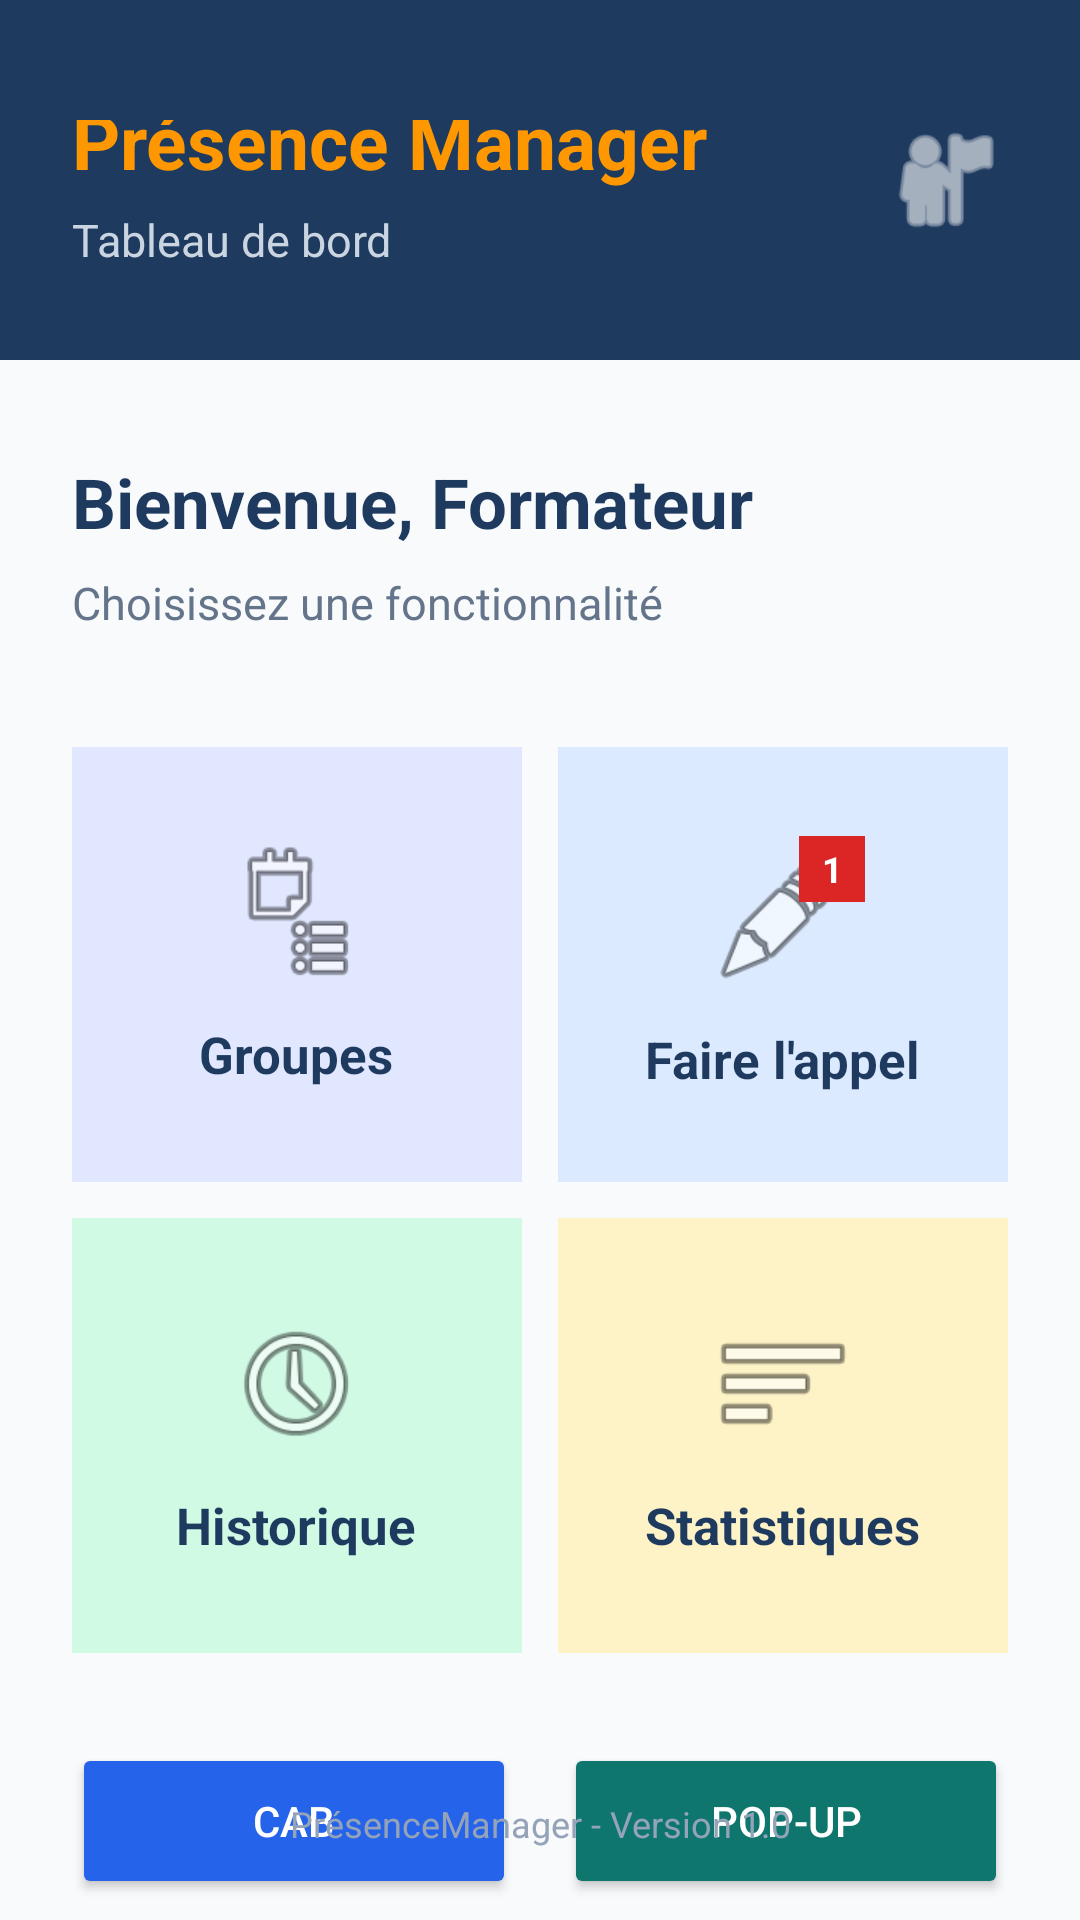

Icon bounding boxes for this 1080*1920 phone screenshot, format (x1, y1, x2, y2):
Profil: (899, 133, 994, 227)
